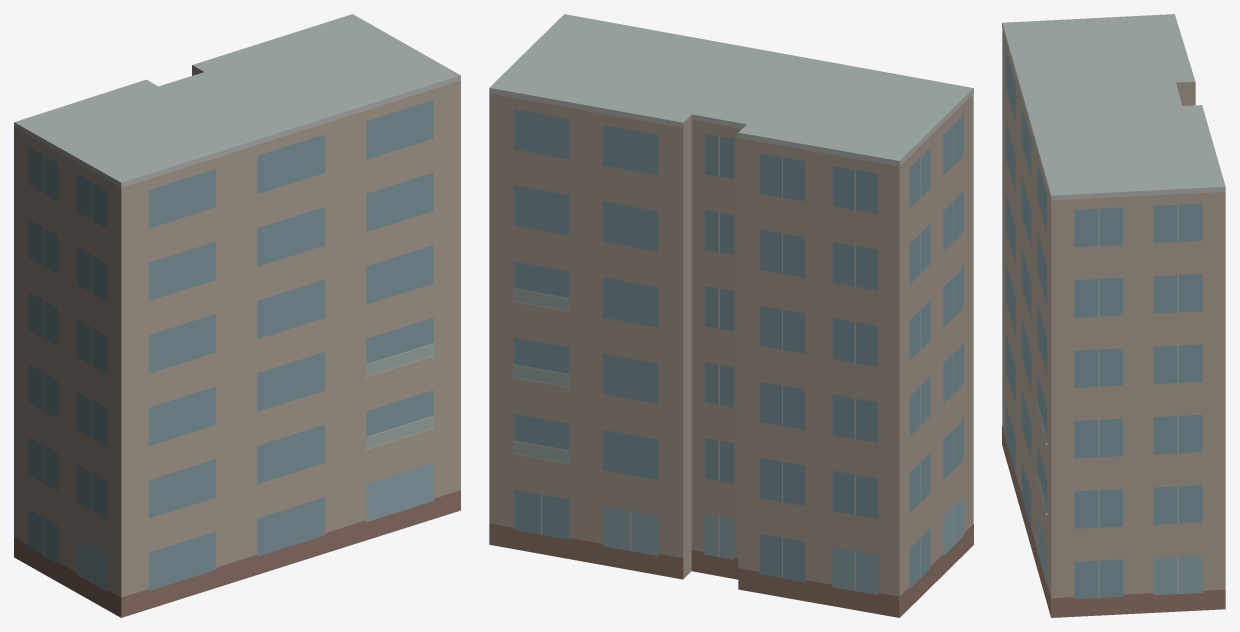
File: survey-upis-32970029.glb
The picture shows the model from 3 angles, left to right: view 1: azimuth 30°, elevation 25°; view 2: azimuth 150°, elevation 25°; view 3: azimuth 270°, elevation 25°; orthographic projection. The views are drawn at different scales.
Visible parts, largest first — view 1: survey-upis-32970029.tmp; view 2: survey-upis-32970029.tmp; view 3: survey-upis-32970029.tmp.
Part boxes in pixels (box(x1,y1,x2,y2)): survey-upis-32970029.tmp: box(14, 14, 460, 617); survey-upis-32970029.tmp: box(489, 14, 973, 617); survey-upis-32970029.tmp: box(1002, 14, 1225, 617).
Bounding box in the file's own units: 18.84 × 20.44 × 9.81.
